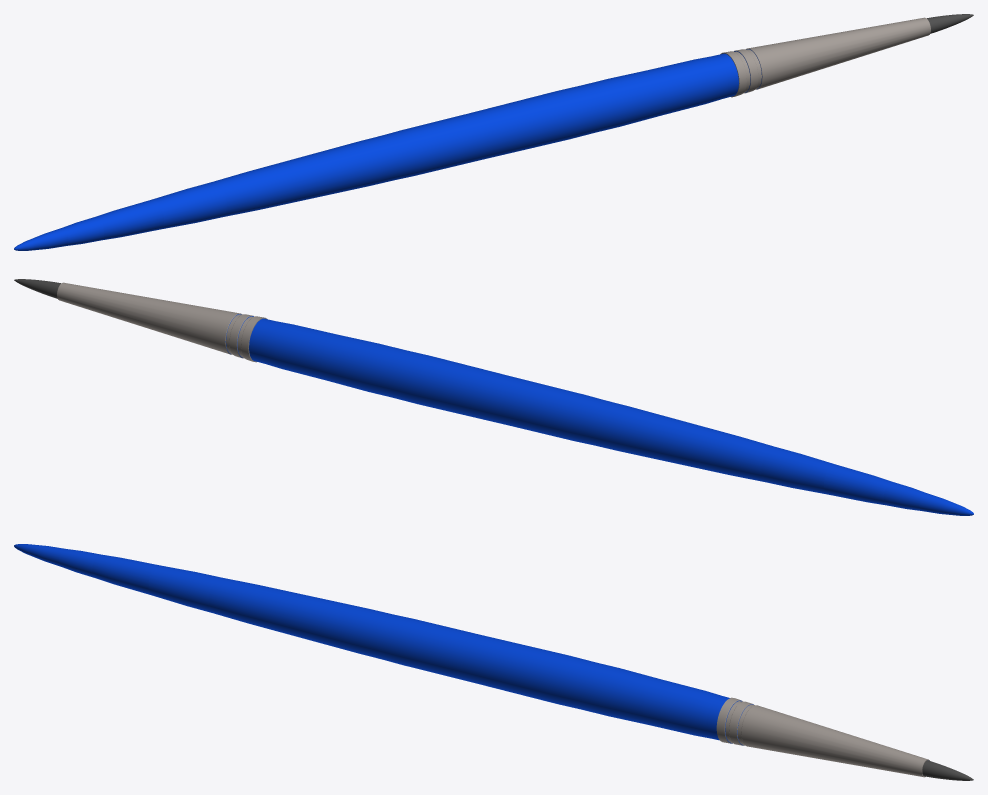
The model's file is cetkica okrugla.fbx.
The picture shows the model from 3 angles, top to bottom: view 1: azimuth 30°, elevation 25°; view 2: azimuth 150°, elevation 25°; view 3: azimuth 330°, elevation 25°; orthographic projection.
Parts seen in each view (by area): view 1: cetkica okrugla (×3); view 2: cetkica okrugla (×3); view 3: cetkica okrugla (×4).
Part boxes in pixels (x1,y1,x2,y2): cetkica okrugla (×3): (14,17,930,250); cetkica okrugla (×3): (57,282,973,515); cetkica okrugla (×4): (14,544,973,780).
Size of the model in its own units: 242 by 10.93 by 10.93.
